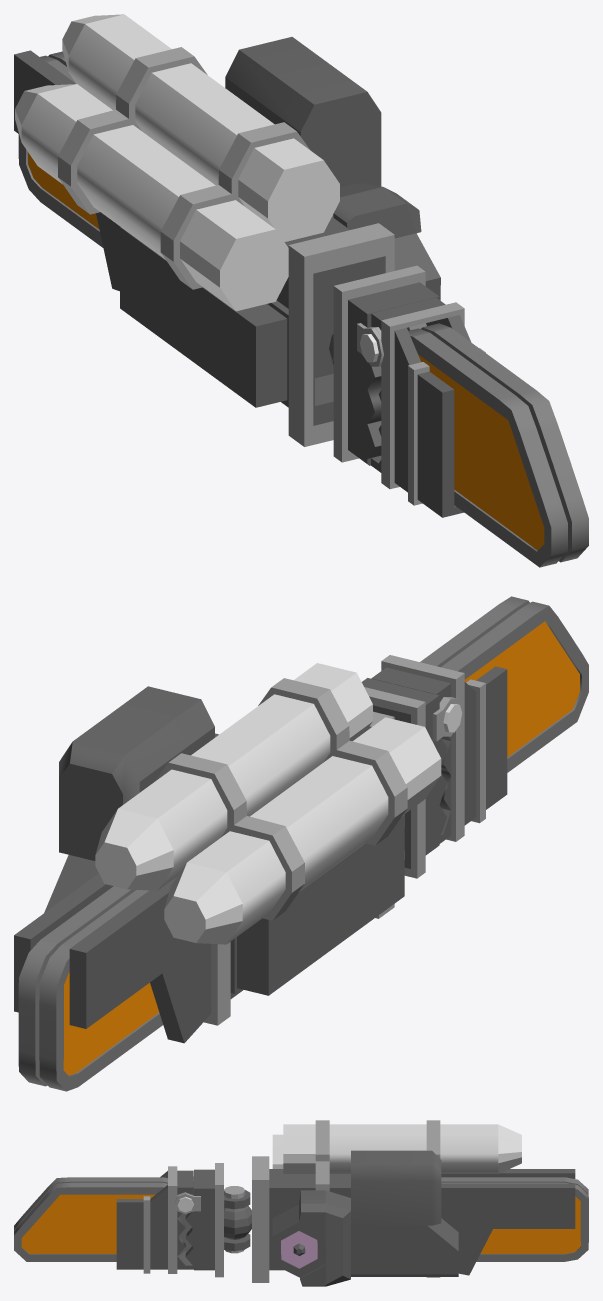
The model's file is ChainsawRevisedUV.fbx.
3 renders of one model, top to bottom at view 1: azimuth 30°, elevation 25°; view 2: azimuth 150°, elevation 25°; view 3: azimuth 270°, elevation 25°, orthographic. The views are drawn at different scales.
Parts seen in each view (by area): view 1: Tanks, Chassis, Engine, Break_Sheath, WristCasing, Chain_Tip (×2), BladeExt (×2), BladeTip, Chain_Bottom (×2), Chain_Top; view 2: Tanks, Chassis, Engine, Break_Sheath, ChainBack (×2), WristCasing, Chain_Bottom (×4), BladeExt (×2), BladeTip, Chain_Tip, Chain_Top, BladeBack; view 3: Engine, Chassis, Tanks, Break_Sheath, WristCasing, BladeExt (×2), BladeTip, Chain_Bottom (×4), Chain_Tip (×2), Chain_Top (×2), Wrist_Joint, ChainBack (+1 smaller).
Part boxes in pixels (<box>): Tanks: <box>15,14,339,311</box>; Chassis: <box>14,47,394,446</box>; Engine: <box>225,37,440,300</box>; Break_Sheath: <box>368,297,485,517</box>; WristCasing: <box>333,265,439,465</box>; Chain_Tip (×2): <box>489,383,588,567</box>; BladeExt (×2): <box>42,170,491,515</box>; BladeTip: <box>491,408,544,550</box>; Chain_Bottom (×2): <box>413,327,526,405</box>; Chain_Top: <box>40,188,103,247</box>; Tanks: <box>95,663,441,944</box>; Chassis: <box>14,678,407,1043</box>; Engine: <box>44,686,218,912</box>; Break_Sheath: <box>371,655,507,843</box>; ChainBack (×2): <box>18,940,78,1091</box>; WristCasing: <box>361,678,462,878</box>; Chain_Bottom (×4): <box>40,611,526,948</box>; BladeExt (×2): <box>76,636,524,1072</box>; BladeTip: <box>525,621,579,744</box>; Chain_Tip: <box>510,601,588,758</box>; Chain_Top: <box>77,1017,154,1086</box>; BladeBack: <box>63,972,76,1075</box>; Engine: <box>272,1150,458,1286</box>; Chassis: <box>252,1120,575,1282</box>; Tanks: <box>272,1124,521,1173</box>; Break_Sheath: <box>116,1166,193,1273</box>; WristCasing: <box>174,1163,250,1277</box>; BladeExt (×2): <box>81,1194,565,1253</box>; BladeTip: <box>21,1194,80,1253</box>; Chain_Bottom (×4): <box>81,1177,565,1194</box>; Chain_Tip (×2): <box>14,1177,80,1261</box>; Chain_Top (×2): <box>81,1254,565,1261</box>; Wrist_Joint: <box>224,1205,251,1239</box>; ChainBack: <box>565,1183,588,1261</box>.
Bounding box in the file's own units: 0.3649 × 0.3767 × 1.4.
